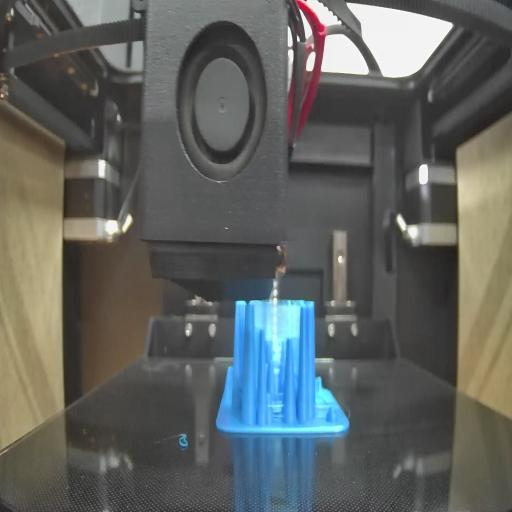stringing: (256, 304, 300, 344), (268, 398, 284, 424)
